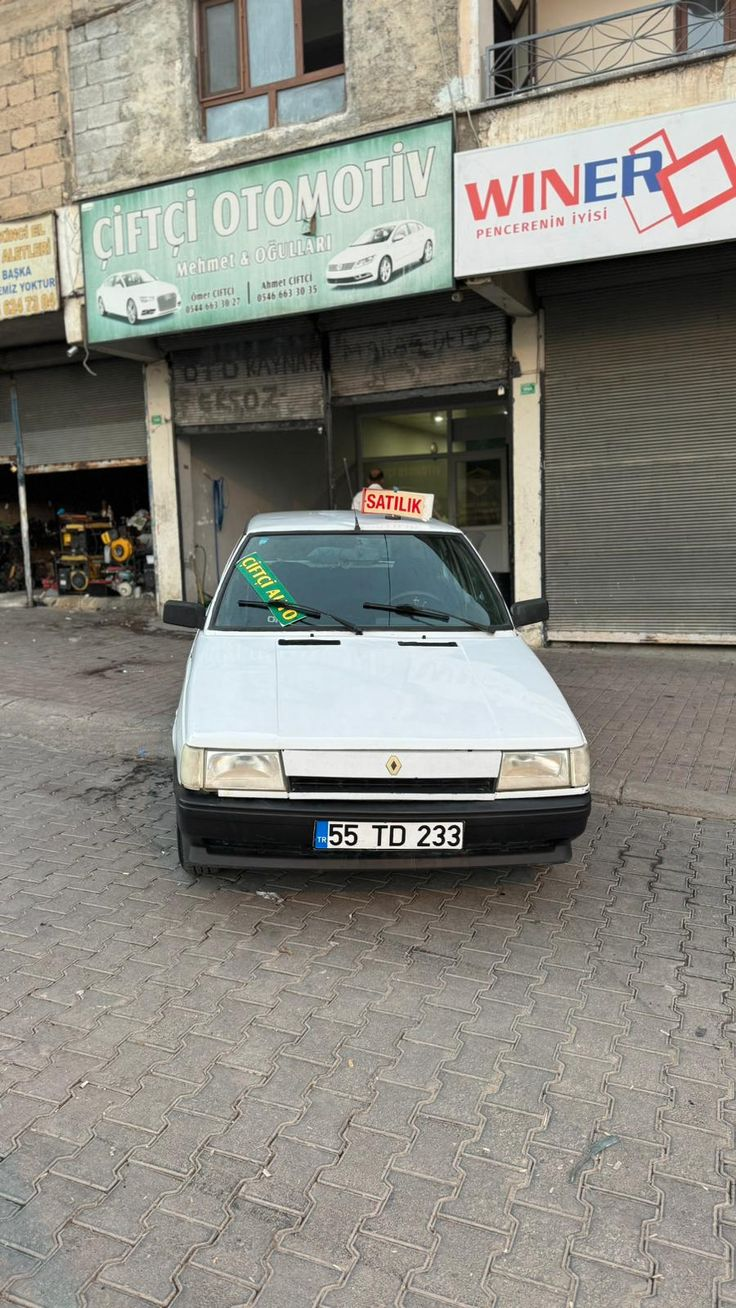plate: (312, 824, 467, 859)
